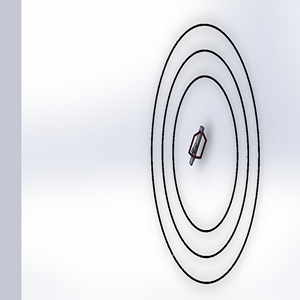circle: (147, 16, 265, 287)
submarine: (185, 122, 218, 174)
